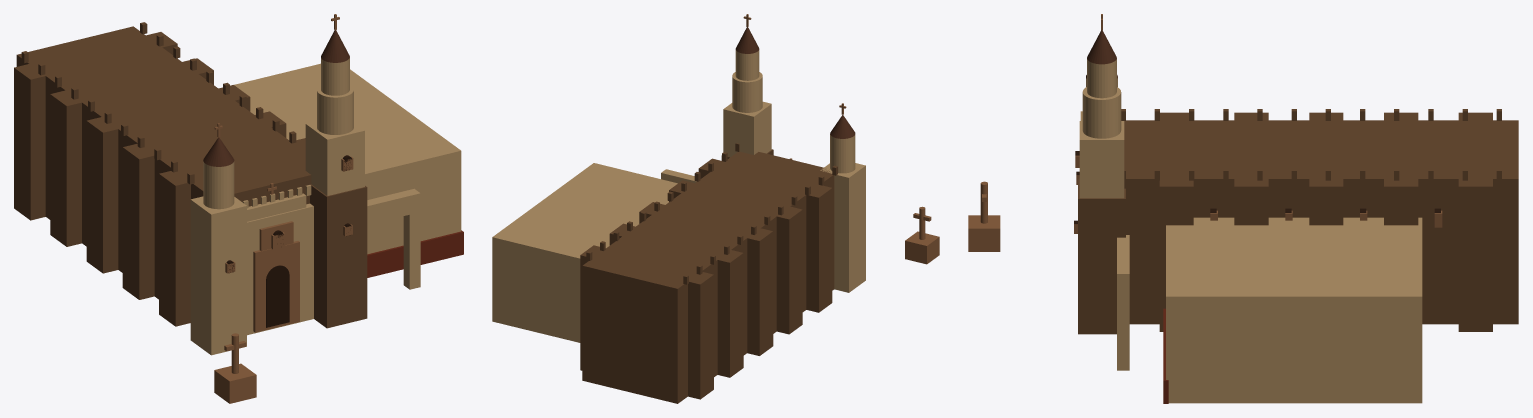
The model's file is ExconventoTepoztlan.obj.
3 views of the same model, side by side, from view 1: azimuth 30°, elevation 25°; view 2: azimuth 150°, elevation 25°; view 3: azimuth 270°, elevation 25° (orthographic). The views are drawn at different scales.
Visible parts, largest first — view 1: Nave_Principal, Claustro_Edificio, Torre_Izquierda_Cuerpo1, Torre_Derecha_Cuerpo1, Contrafuerte_Izq_3, Contrafuerte_Izq_2, Contrafuerte_Izq_5, Contrafuerte_Izq_4, Contrafuerte_Izq_1, Torre_Derecha_Cuerpo2, Fachada_Plano_Base, Portada_Plateresca_Base (+13 smaller); view 2: Nave_Principal, Claustro_Edificio, Torre_Izquierda_Cuerpo1, Contrafuerte_Izq_2, Contrafuerte_Izq_4, Contrafuerte_Izq_1, Contrafuerte_Izq_3, Contrafuerte_Izq_5, Torre_Derecha_Cuerpo2, Torre_Derecha_Campanario_Nivel1, Cruz_Atrial_Peana, Torre_Izquierda_Campanario (+2 smaller); view 3: Claustro_Edificio, Nave_Principal, Torre_Derecha_Cuerpo1, Contrafuerte_Der_5, Torre_Derecha_Cuerpo2, Contrafuerte_Der_1, Torre_Derecha_Campanario_Nivel1, Contrafuerte_Der_2, Contrafuerte_Der_3, Contrafuerte_Der_4, Arco_Atrio_Pilar_Der, Cruz_Atrial_Peana (+2 smaller).
Boxes of the visible parts, <box> form: Nave_Principal: <box>16,26,311,299</box>; Claustro_Edificio: <box>234,63,461,254</box>; Torre_Izquierda_Cuerpo1: <box>190,196,246,355</box>; Torre_Derecha_Cuerpo1: <box>310,184,367,328</box>; Contrafuerte_Izq_3: <box>86,117,120,273</box>; Contrafuerte_Izq_2: <box>122,143,154,299</box>; Contrafuerte_Izq_5: <box>14,64,47,220</box>; Contrafuerte_Izq_4: <box>50,90,81,246</box>; Contrafuerte_Izq_1: <box>159,171,190,326</box>; Torre_Derecha_Cuerpo2: <box>305,121,364,195</box>; Fachada_Plano_Base: <box>247,203,313,335</box>; Portada_Plateresca_Base: <box>253,241,299,332</box>; Nave_Principal: <box>582,152,834,403</box>; Claustro_Edificio: <box>492,163,677,342</box>; Torre_Izquierda_Cuerpo1: <box>820,163,865,292</box>; Contrafuerte_Izq_2: <box>775,206,802,334</box>; Contrafuerte_Izq_4: <box>716,249,743,377</box>; Contrafuerte_Izq_1: <box>804,184,832,312</box>; Contrafuerte_Izq_3: <box>746,228,773,355</box>; Contrafuerte_Izq_5: <box>688,272,713,399</box>; Torre_Derecha_Cuerpo2: <box>723,101,771,156</box>; Torre_Derecha_Campanario_Nivel1: <box>732,72,762,112</box>; Cruz_Atrial_Peana: <box>905,231,939,264</box>; Torre_Izquierda_Campanario: <box>830,134,855,173</box>; Claustro_Edificio: <box>1166,217,1422,403</box>; Nave_Principal: <box>1124,120,1518,324</box>; Torre_Derecha_Cuerpo1: <box>1078,178,1125,334</box>; Contrafuerte_Der_5: <box>1458,179,1492,331</box>; Torre_Derecha_Cuerpo2: <box>1079,121,1124,198</box>; Contrafuerte_Der_1: <box>1159,179,1193,331</box>; Torre_Derecha_Campanario_Nivel1: <box>1082,87,1121,138</box>; Contrafuerte_Der_2: <box>1234,179,1268,225</box>; Contrafuerte_Der_3: <box>1309,179,1343,225</box>; Contrafuerte_Der_4: <box>1384,179,1418,225</box>; Arco_Atrio_Pilar_Der: <box>1117,268,1129,370</box>; Cruz_Atrial_Peana: <box>968,215,1000,251</box>.
Bounding box in the file's own units: 36.65 × 32 × 51.5.
